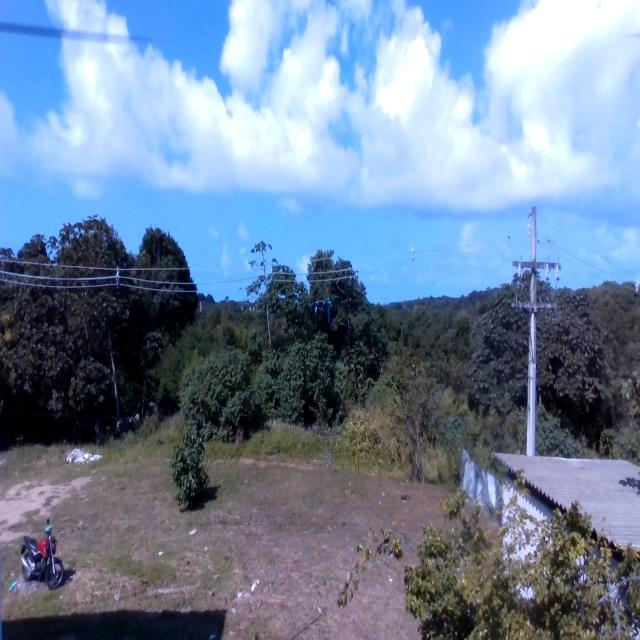-uav-: (304, 295, 342, 333)
